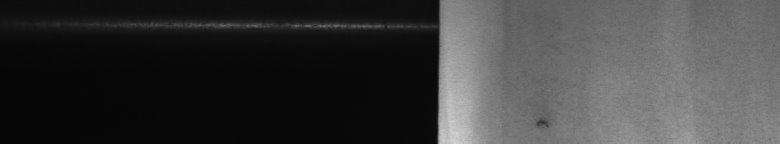fi: (532, 112, 554, 135)
